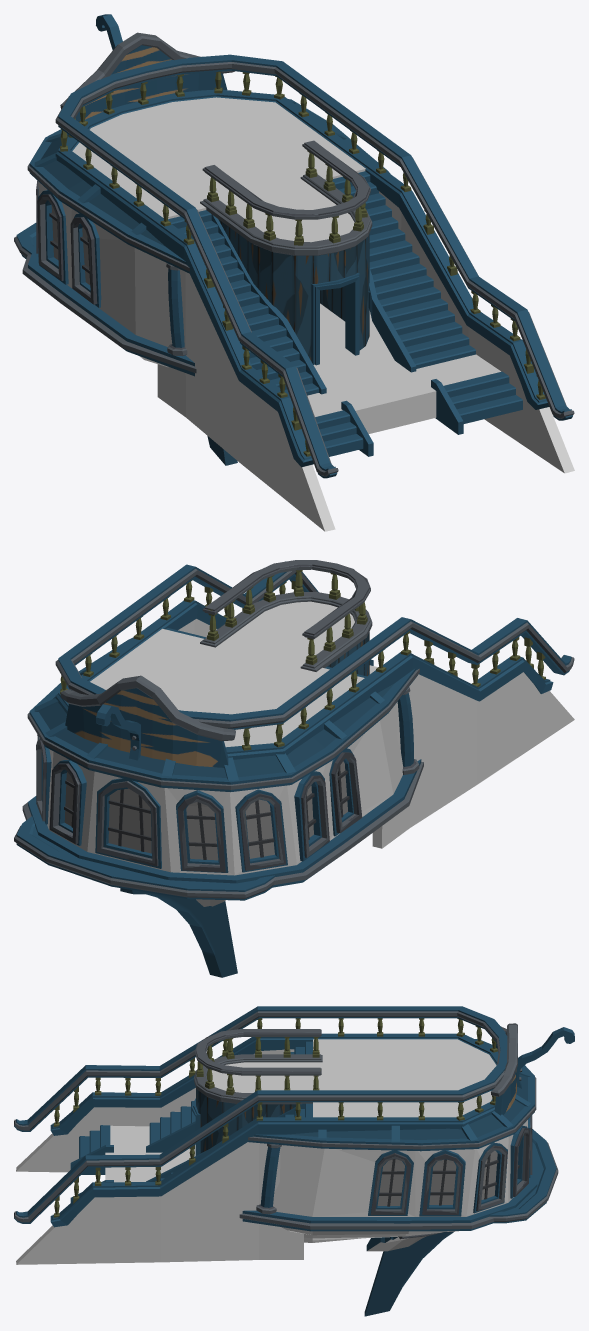
File: SM_Veh_Ship_M_Back_02.fbx
The picture shows the model from 3 angles, top to bottom: view 1: azimuth 30°, elevation 25°; view 2: azimuth 150°, elevation 25°; view 3: azimuth 270°, elevation 25°; orthographic projection. The views are drawn at different scales.
Visible parts, largest first — view 1: SM_Veh_Ship_M_Back_02; view 2: SM_Veh_Ship_M_Back_02; view 3: SM_Veh_Ship_M_Back_02.
Part boxes in pixels (x1,y1,x2,y2): SM_Veh_Ship_M_Back_02: [14, 14, 574, 531]; SM_Veh_Ship_M_Back_02: [14, 560, 574, 977]; SM_Veh_Ship_M_Back_02: [14, 1006, 574, 1316].
Bounding box in the file's own units: 800 × 964 × 1694.
